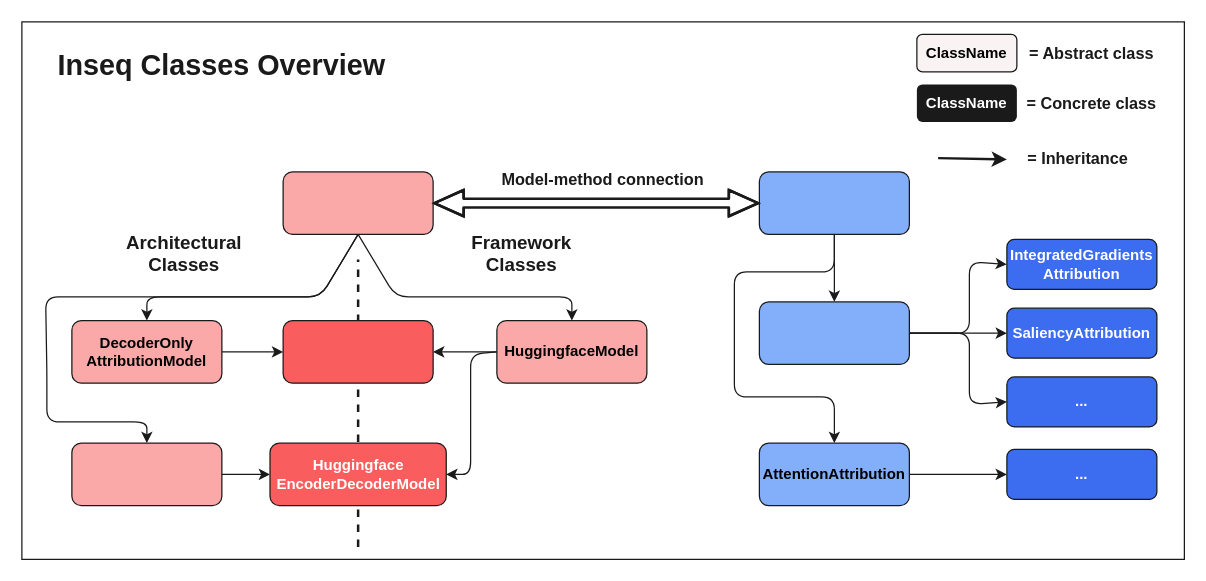
This 1206x581 diagram has some shape labels left out. Here are the shapes that lost their labels. From the top down, the box of each, then its label:
(282, 171, 433, 234): AttributionModel
(758, 171, 909, 234): FeatureAttribution
(282, 319, 433, 383): Huggingface DecoderOnlyModel
(758, 301, 909, 364): GradientAttribution
(71, 442, 222, 506): EncoderDecoder AttributionModel
